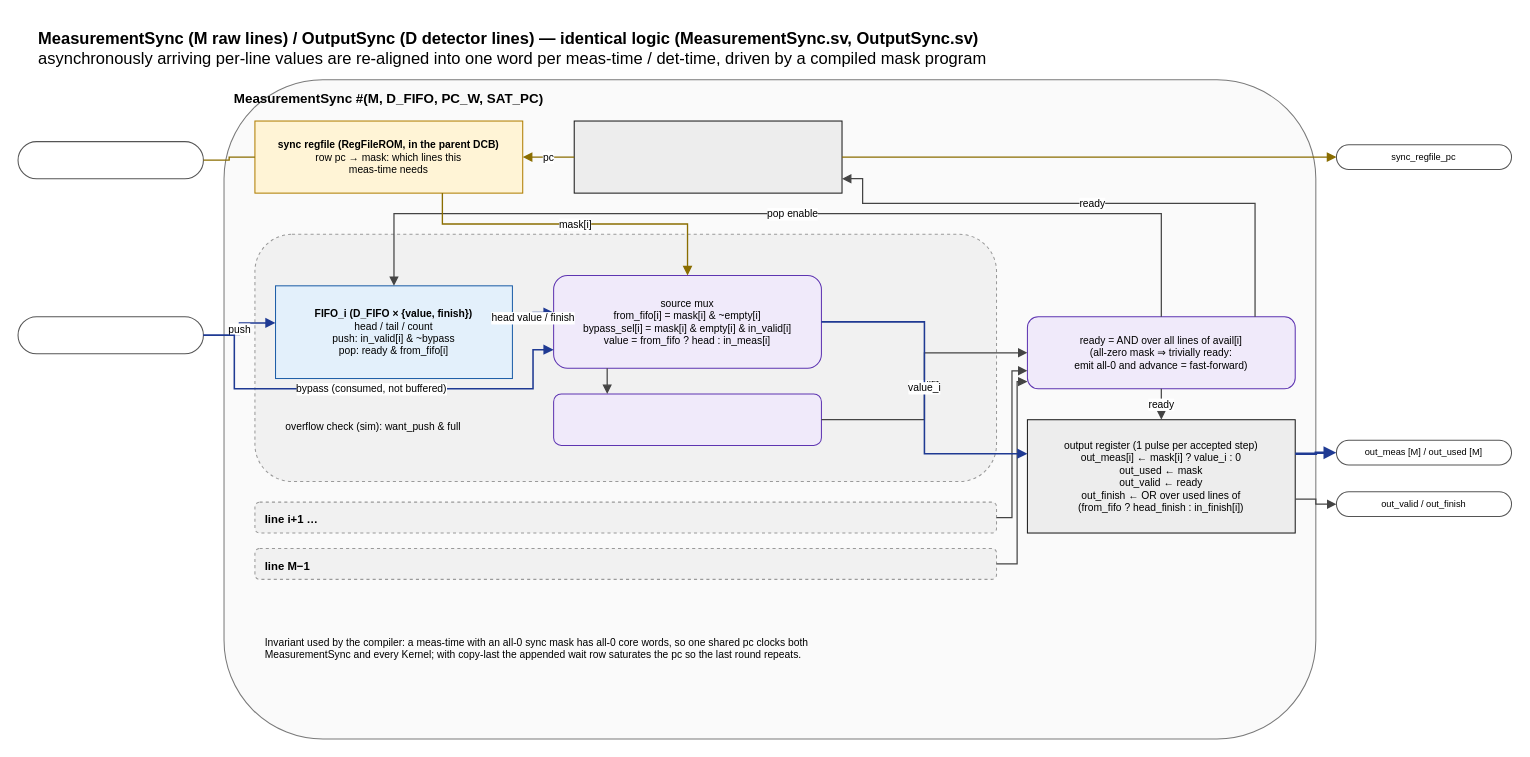
The diagram is 1530 pixels wide and 757 high, and some of its shapes have lost their labels. Here are the shapes that lost their labels. From the top down, the box of each, then its label:
(17, 141, 203, 179): sync_mask [M] (regfile word @ pc)
(573, 120, 842, 193): pc register if ready: pc ← (SAT_EN && pc+1 > SAT_PC) ? SAT_PC : pc + 1
(17, 316, 203, 354): in_meas[i] / in_valid[i] / in_finish[i] (one per line, arrive in any cycle)
(254, 233, 997, 482): line i (replicated M times)
(553, 393, 821, 445): avail[i] = ~mask[i] | from_fifo[i] | bypass_sel[i]
